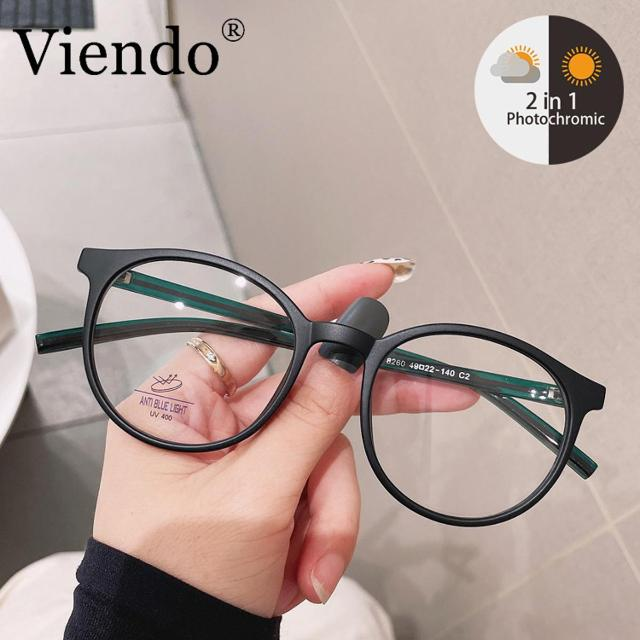glasses: (80, 235, 608, 537)
